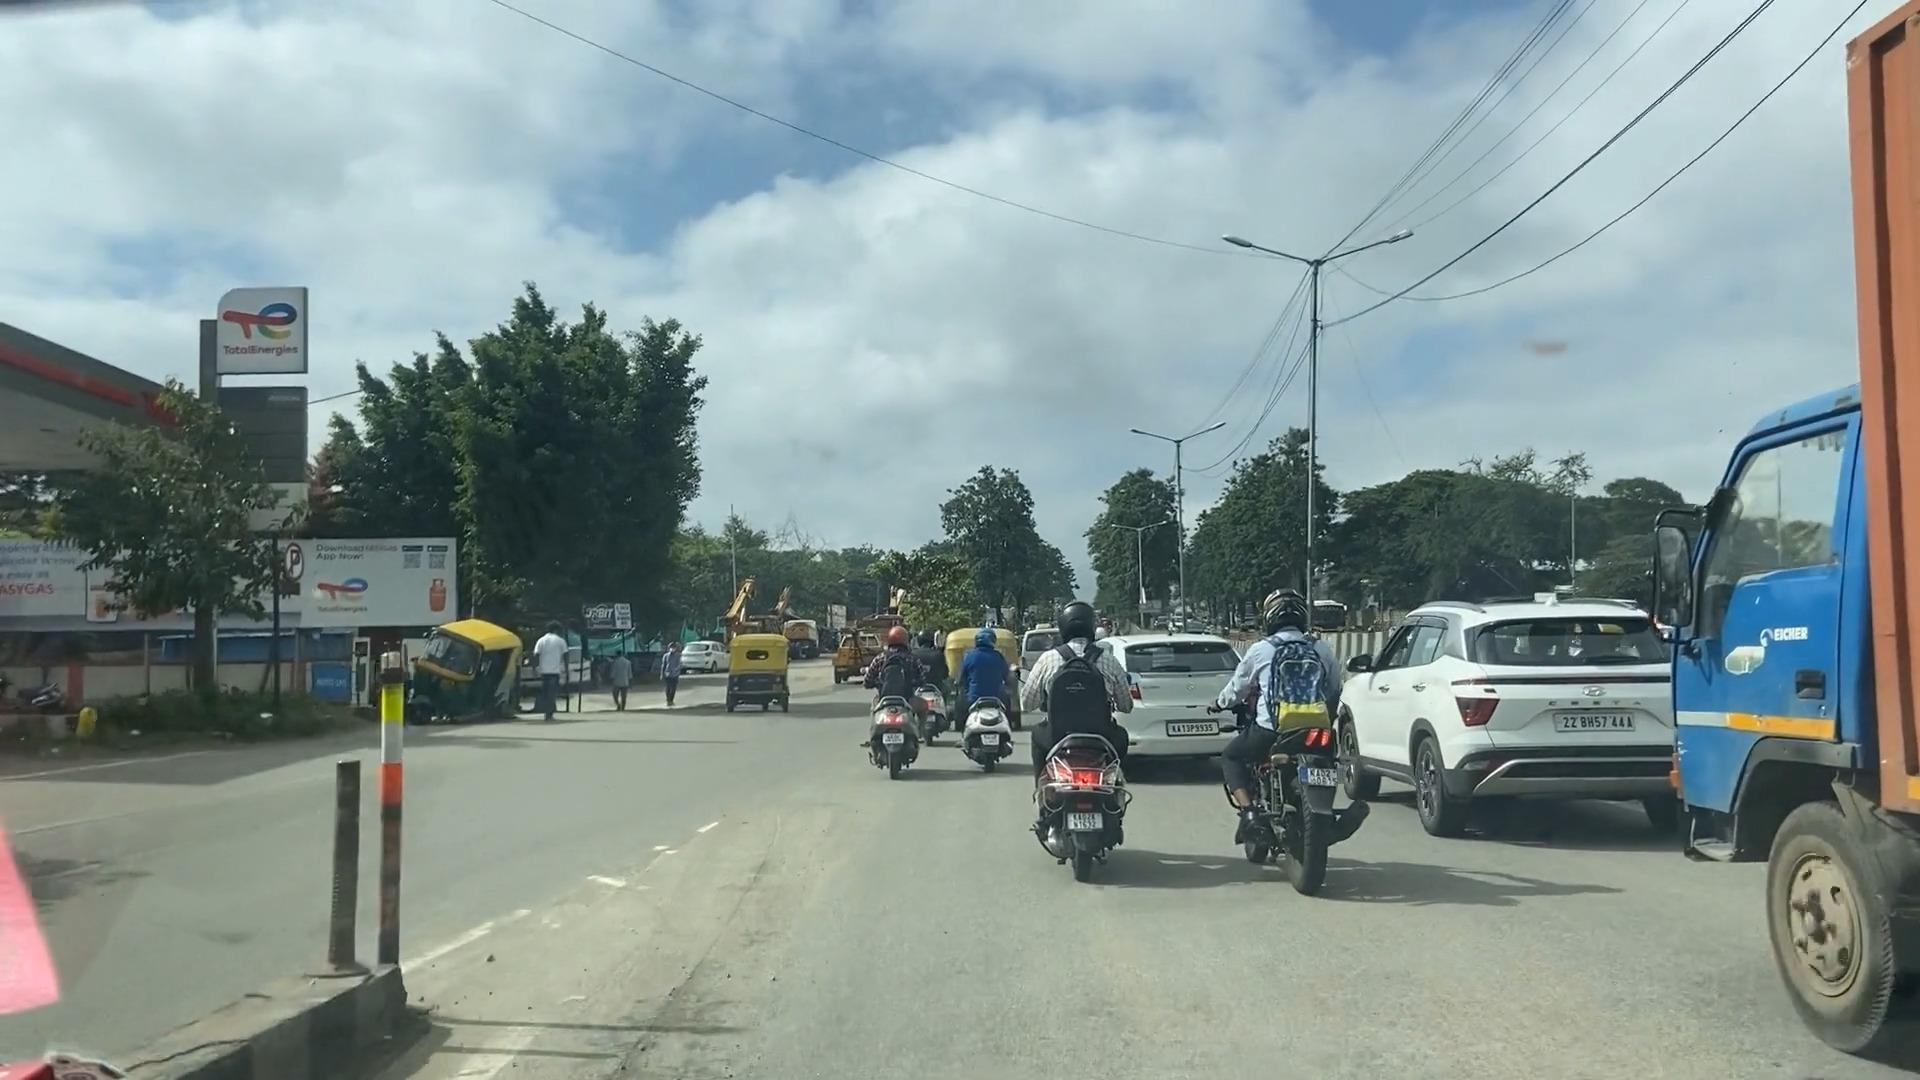LMV: (1375, 600, 1646, 819), (1236, 584, 1323, 895), (1044, 604, 1130, 915), (874, 636, 927, 767), (957, 622, 1005, 760), (732, 632, 793, 721)
RoadDamages: (600, 982, 773, 1080)
